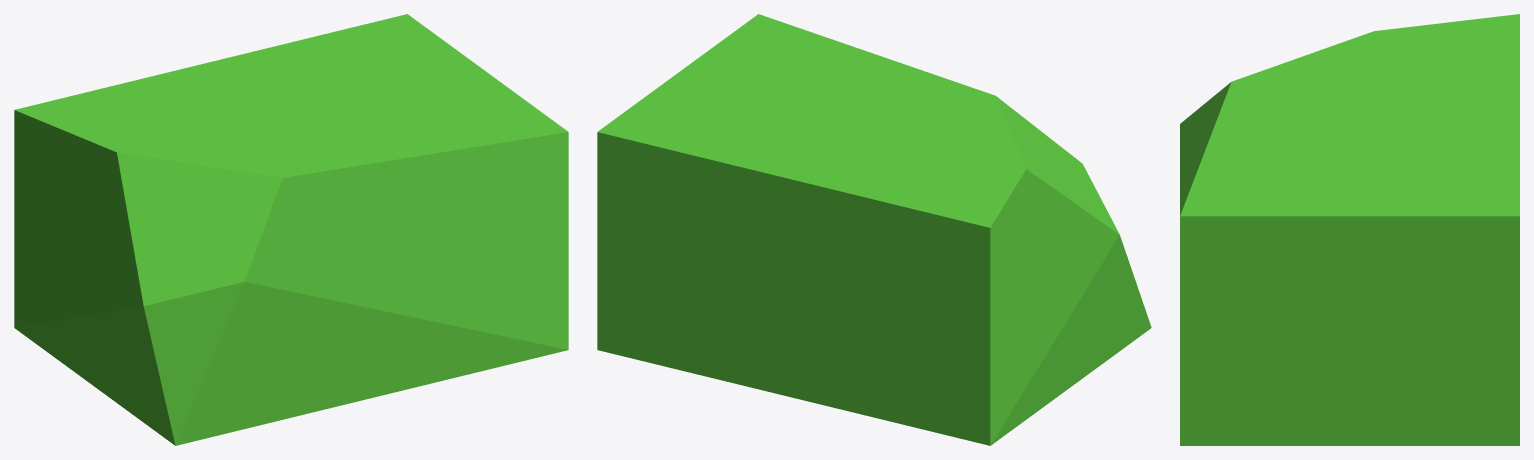
File: Pavement_07.fbx
3 renders of one model, left to right at view 1: azimuth 30°, elevation 25°; view 2: azimuth 150°, elevation 25°; view 3: azimuth 270°, elevation 25°, orthographic. The views are drawn at different scales.
Visible parts, largest first — view 1: Pavement_07; view 2: Pavement_07; view 3: Pavement_07.
Boxes of the visible parts, left/top/right/bottom form: Pavement_07: left=14, top=14, right=568, bottom=445; Pavement_07: left=597, top=14, right=1151, bottom=445; Pavement_07: left=1180, top=14, right=1519, bottom=445.
Bounding box in the file's own units: 30.63 × 16.23 × 21.76.
